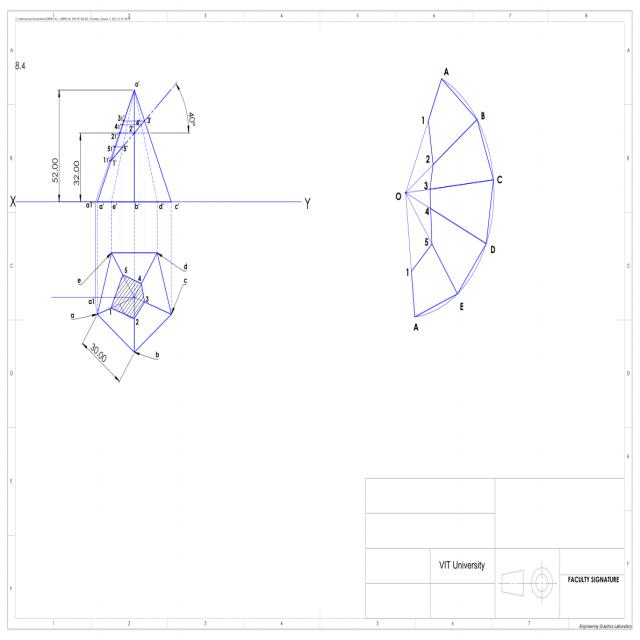Drawings: (9, 37, 332, 431), (385, 60, 507, 356)
